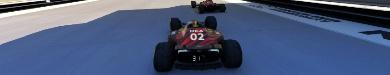Car: (190, 0, 226, 13)
Tree: (152, 15, 242, 71)
